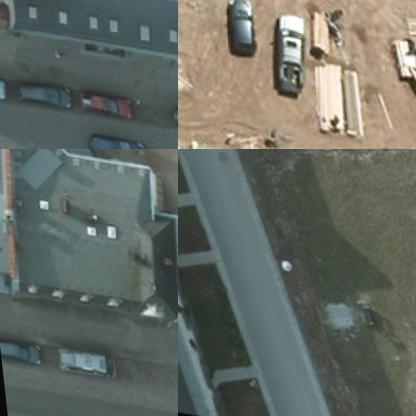car: (217, 0, 253, 52), (9, 78, 64, 110), (73, 88, 128, 120), (73, 127, 143, 148), (0, 336, 38, 370), (162, 102, 177, 130)
pickup: (265, 8, 307, 97)
van: (48, 346, 106, 380)
